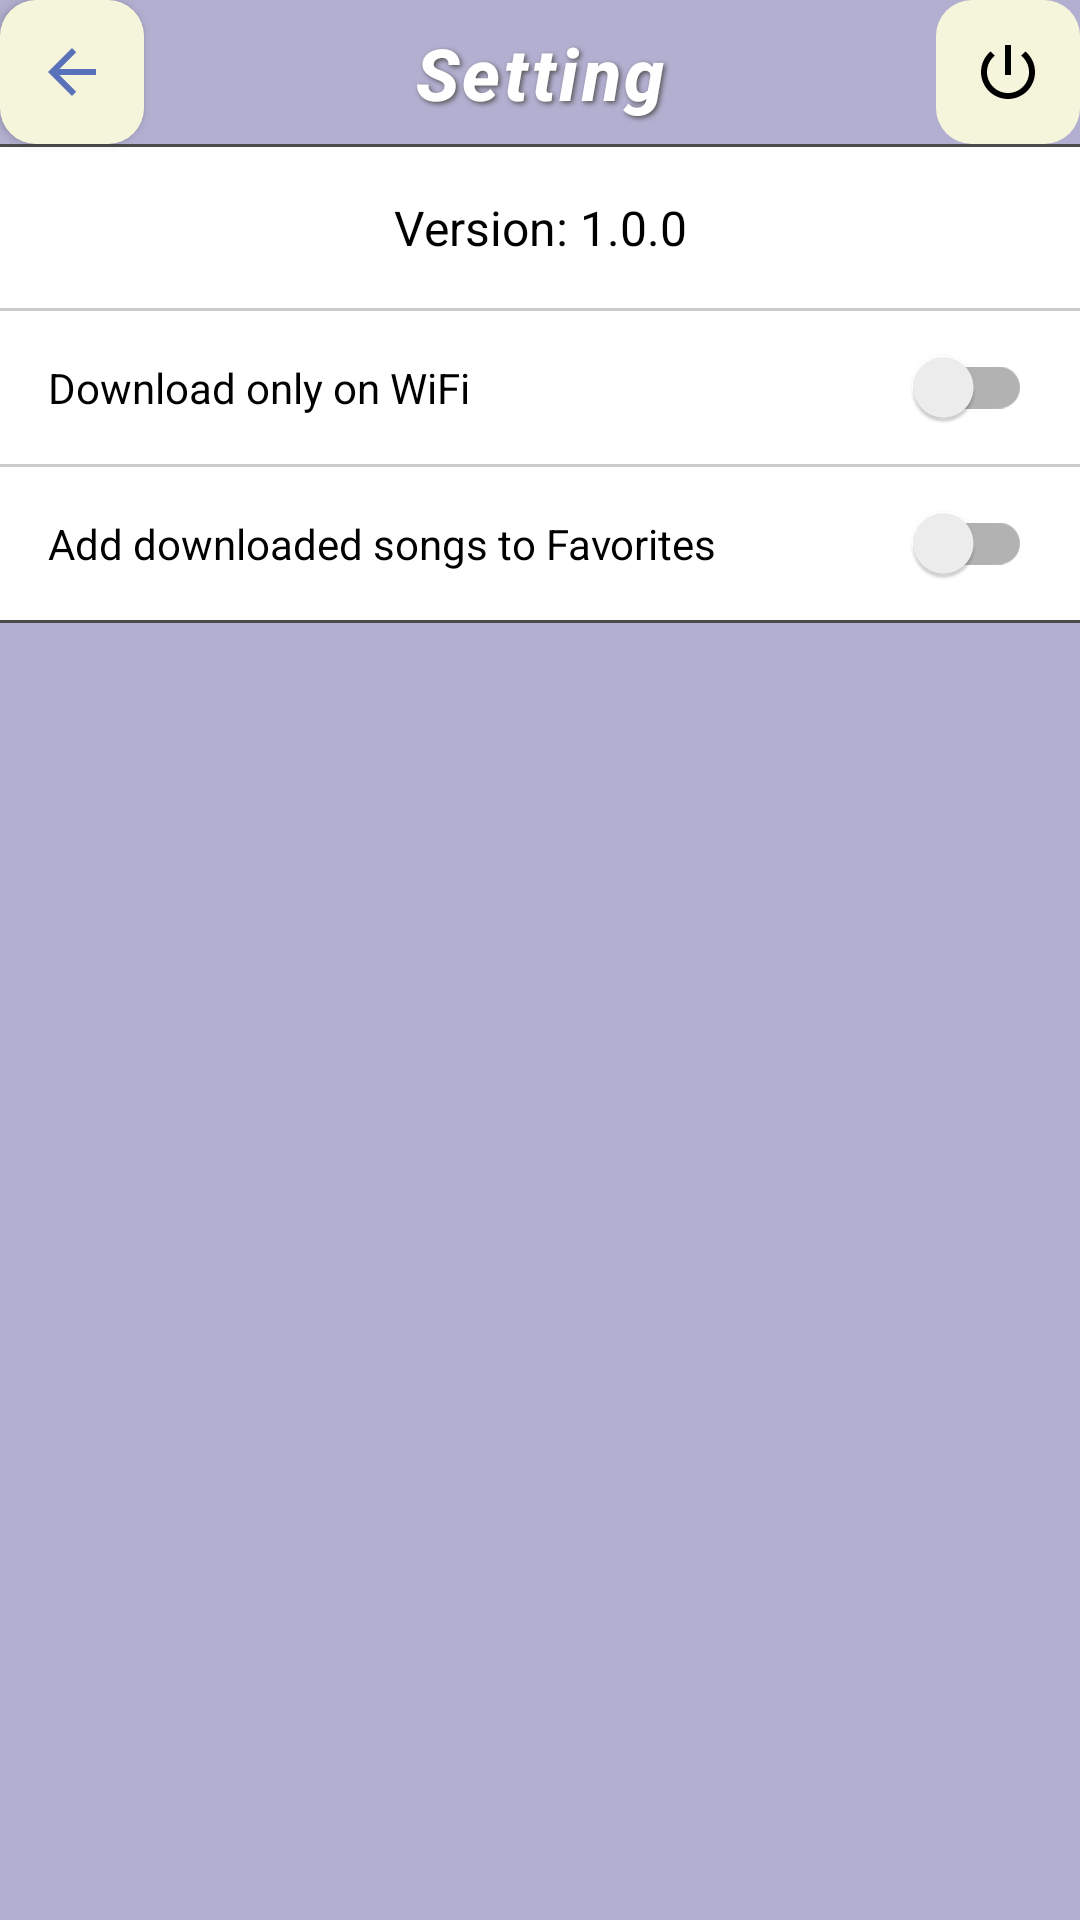

Icons on this 1080 × 1920 Android screen, each with the point to tap as (x,y):
quit button: (1008,72)
